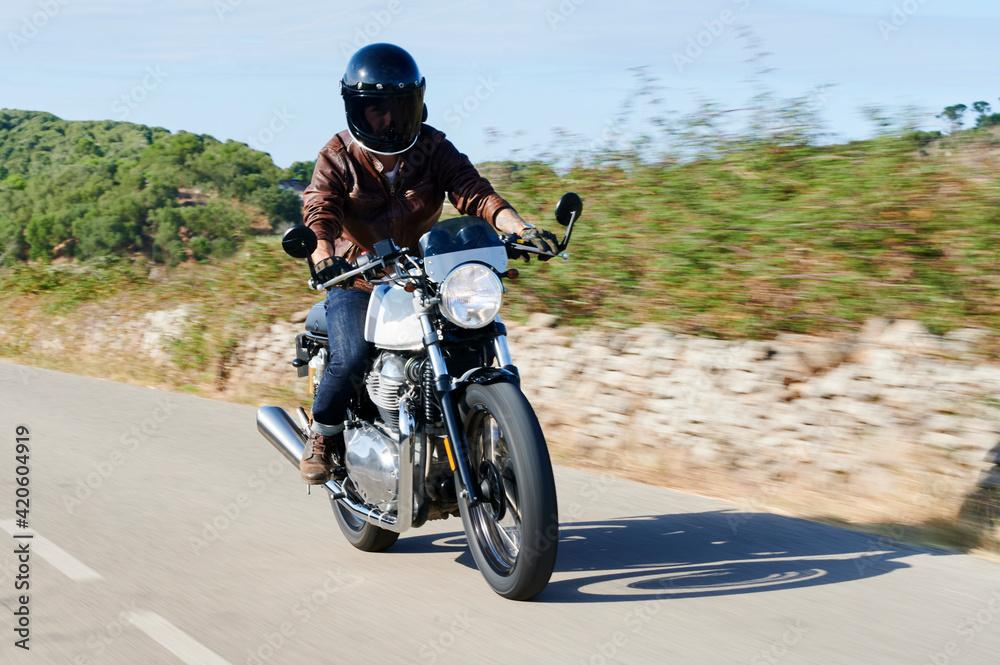helmet: (338, 41, 429, 156)
